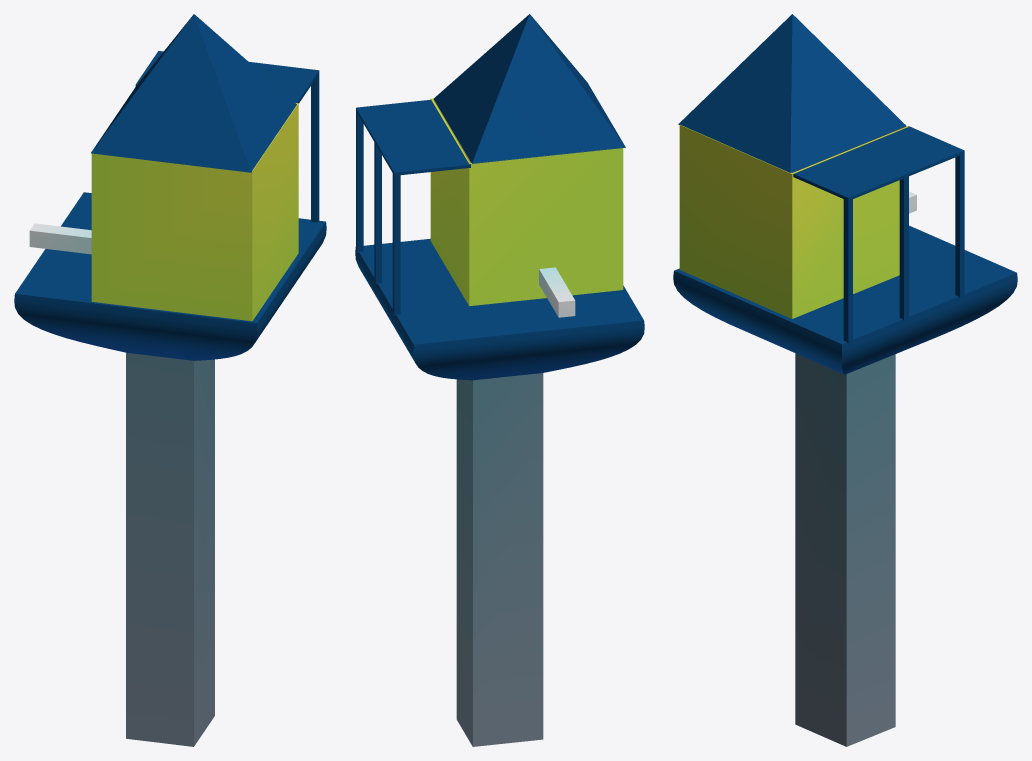
3 views of the same model, side by side, from view 1: azimuth 30°, elevation 25°; view 2: azimuth 150°, elevation 25°; view 3: azimuth 270°, elevation 25° (orthographic). The views are drawn at different scales.
Parts seen in each view (by area): view 1: post, upright, pointed_cap, flared_base, silver_bar, top_rail, frame_posts.001; view 2: post, upright, flared_base, pointed_cap, top_rail, frame_posts.003, silver_bar, frame_posts.002, frame_posts.001; view 3: post, upright, flared_base, pointed_cap, top_rail, frame_posts.001, frame_posts.003, frame_posts.002.
Boxes of the visible parts, box(x1,y1,x2,y2) form: post: box(126, 352, 214, 746); upright: box(91, 103, 298, 321); pointed_cap: box(91, 14, 296, 172); flared_base: box(14, 192, 326, 360); silver_bar: box(29, 223, 91, 254); top_rail: box(135, 53, 317, 103); frame_posts.001: box(311, 69, 319, 222); post: box(456, 373, 543, 746); upright: box(430, 98, 623, 306); flared_base: box(355, 238, 644, 380); pointed_cap: box(434, 14, 625, 163); top_rail: box(357, 99, 470, 175); frame_posts.003: box(392, 169, 400, 315); silver_bar: box(539, 267, 575, 317); frame_posts.002: box(374, 138, 381, 284); frame_posts.001: box(356, 107, 363, 252); post: box(795, 353, 895, 746); upright: box(679, 125, 908, 318); flared_base: box(673, 225, 1017, 374); pointed_cap: box(678, 14, 905, 172); top_rail: box(793, 126, 959, 198); frame_posts.001: box(843, 194, 852, 343); frame_posts.003: box(955, 148, 964, 297); frame_posts.002: box(899, 171, 908, 320).
Size of the model in its own units: 0.7924 by 1.8 by 0.7925.
